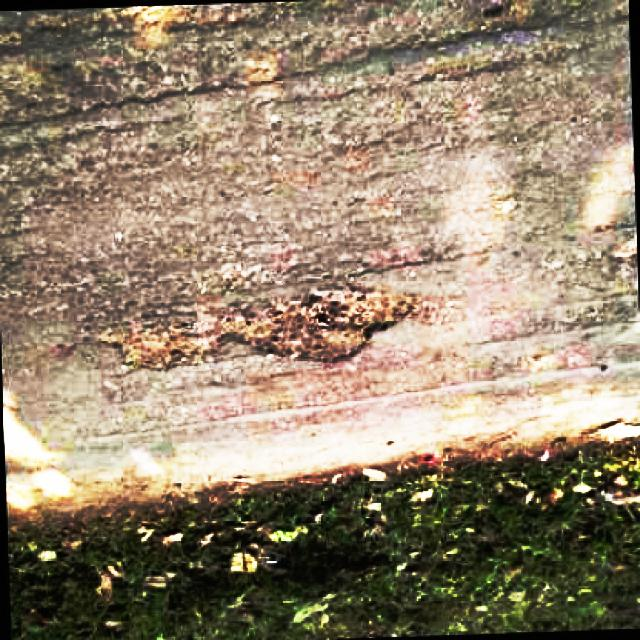pothole: (234, 286, 426, 365)
